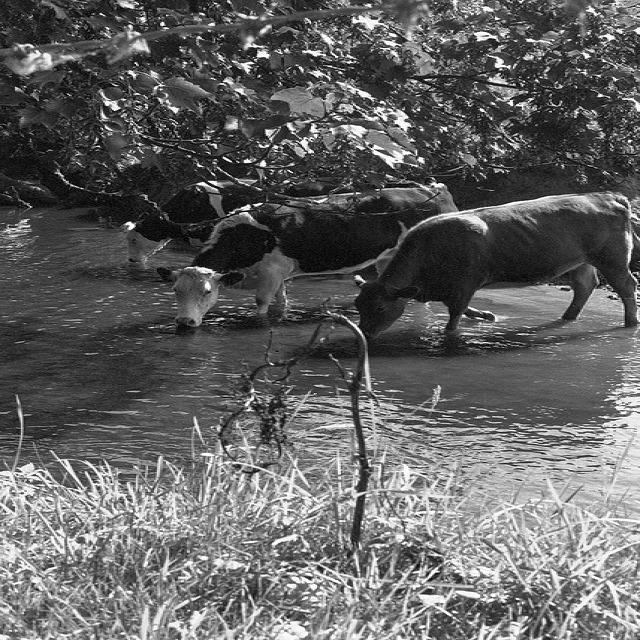cow: (153, 182, 458, 327), (352, 189, 639, 339), (124, 174, 420, 261)
